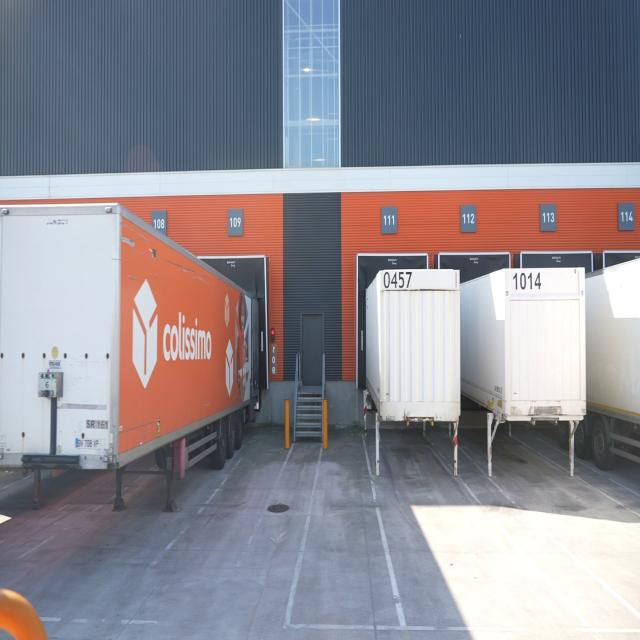Code: (507, 268, 544, 294), (380, 266, 416, 292)
